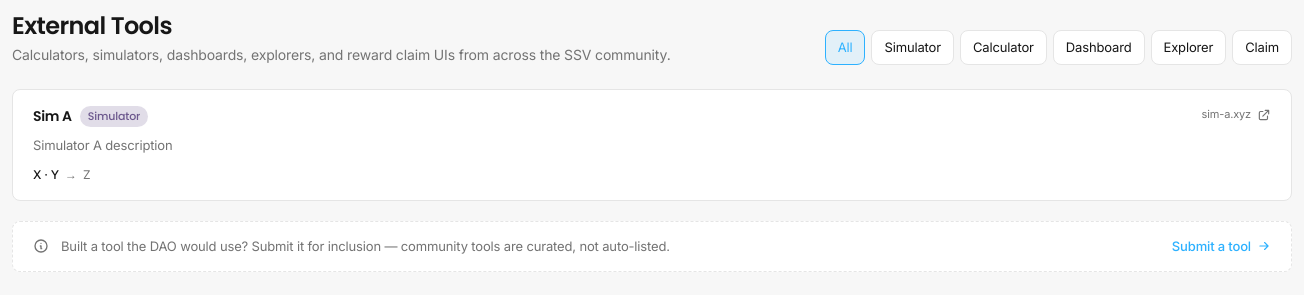
Test case: ExternalToolsSection › shows an empty-state message when no tools match
Click the button "Dashboard". click: (1099,47)
box: [1053,30,1144,65]
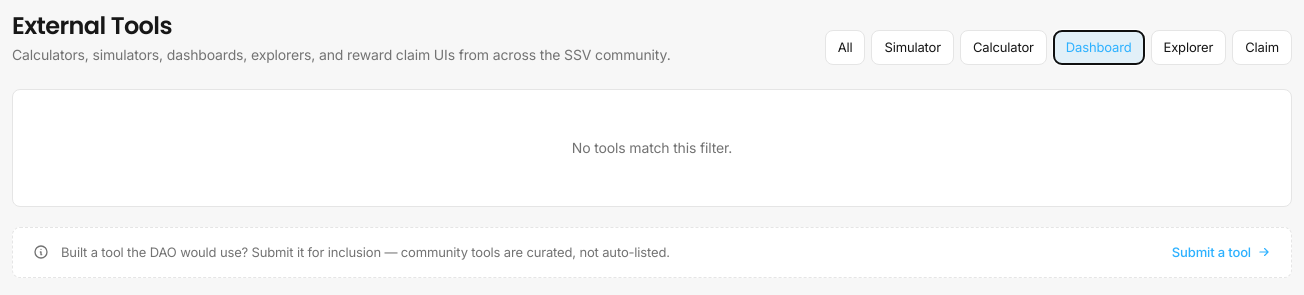
Now the text "No tools match this filter." is shown, box [572,139,732,156]
